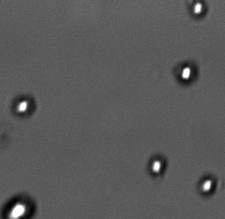Living Cell: (2, 192, 37, 217), (175, 59, 198, 85), (12, 94, 34, 118), (198, 172, 217, 197), (148, 153, 167, 177), (188, 1, 207, 18)
